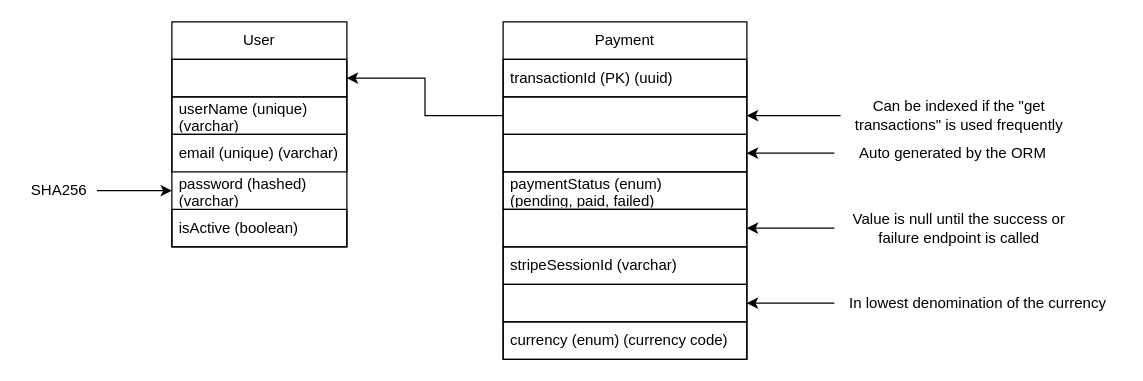
Image size: 1143x381. Some labels were removed from this diagram. The centre of each missing label's shape, as x and y in pixels:
"amount (integer)" belongs at point 624,302.
"finalisedAt (timestamp)" belongs at point 624,227.
"initiatedAt (timestamp)" belongs at point 624,152.
"userId (FK)" belongs at point 624,115.
"userId (PK) (uuid)" belongs at point 259,77.
